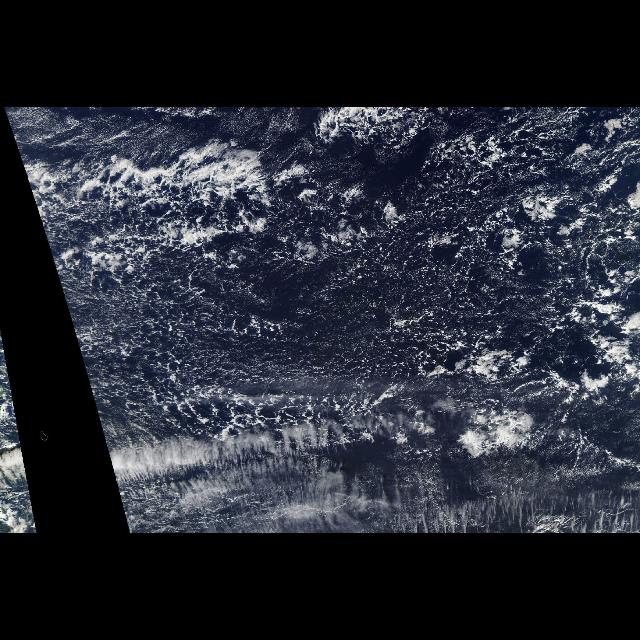Gravel: (46, 134, 640, 396)
